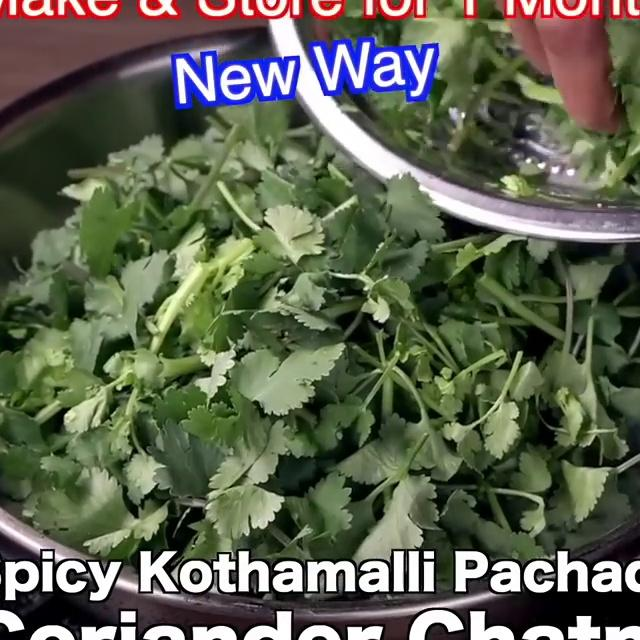cilantro: (0, 217, 640, 523)
